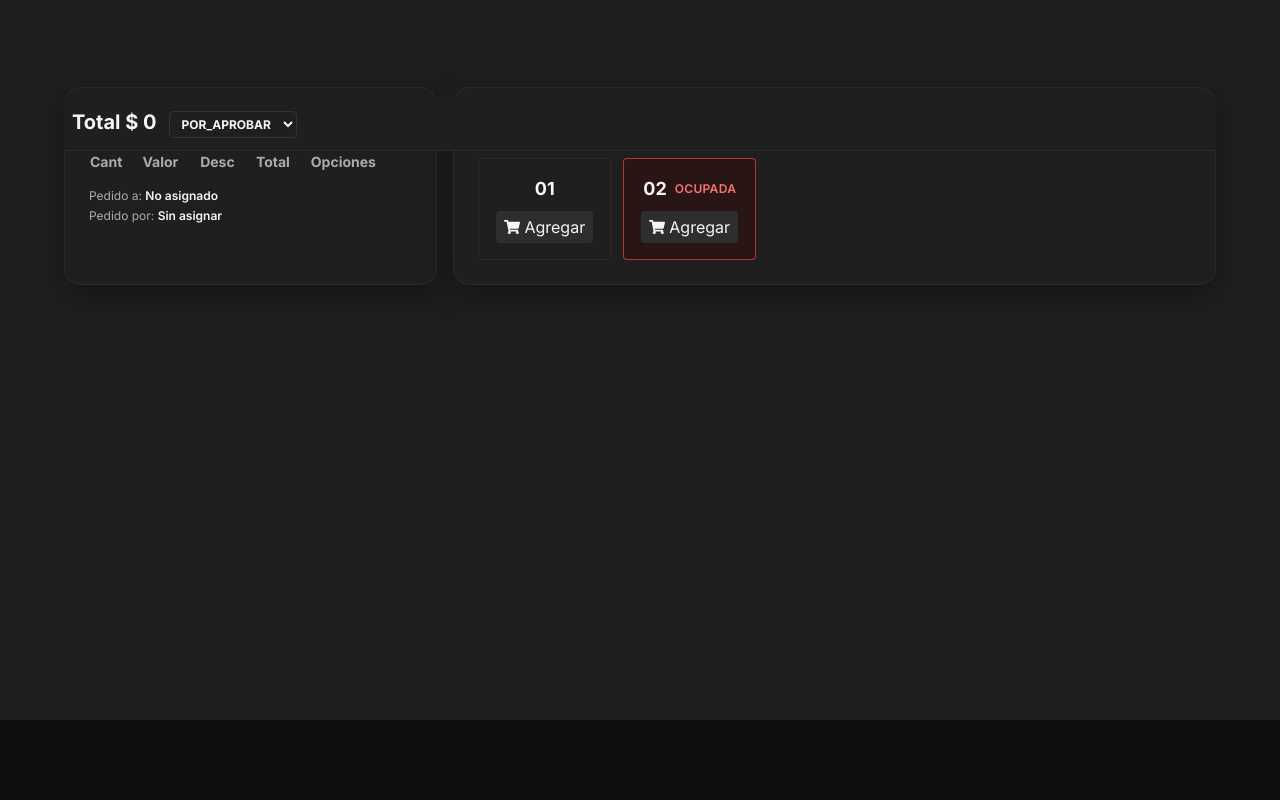
Test: Sales › muestra mesas y al seleccionar una carga el pedido
The image size is (1280, 800).
Click the text "01": [545, 188] box [535,178,555,199]
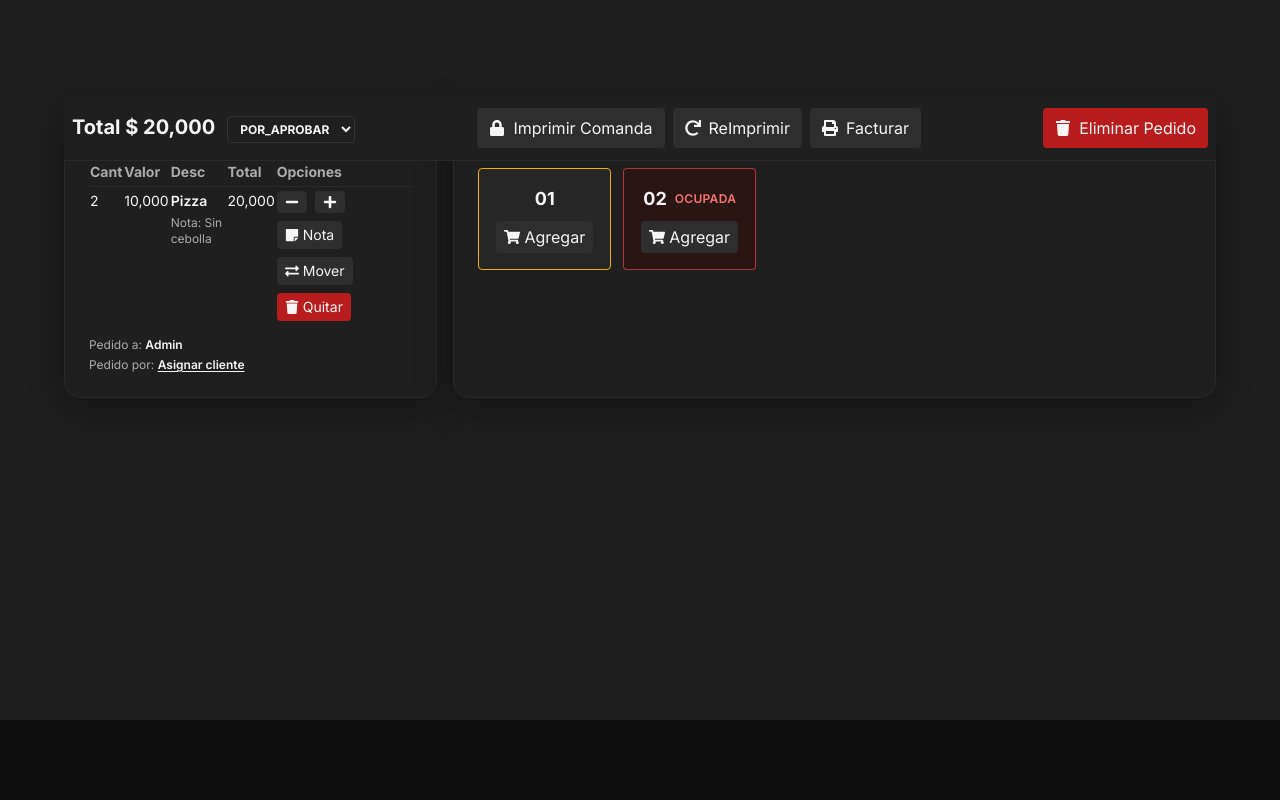
Check: the text "Pizza" is shown, box [171,192,207,209]
Check: the button "Asignar cliente" is shown, box [158,357,244,373]
